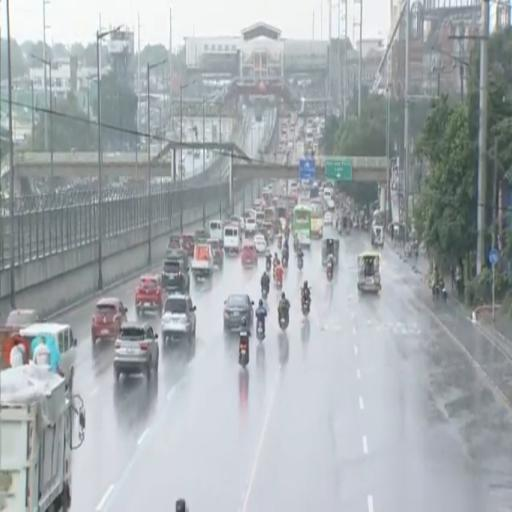bus: (293, 204, 311, 247), (310, 199, 323, 238)
car: (114, 323, 159, 379), (162, 295, 196, 344), (92, 298, 127, 344), (135, 275, 164, 315), (162, 256, 190, 293), (224, 295, 253, 330), (6, 310, 40, 327), (208, 238, 223, 268), (241, 239, 257, 266), (182, 233, 194, 258), (254, 233, 267, 254), (167, 234, 181, 250), (230, 216, 244, 230), (245, 218, 257, 234), (324, 213, 333, 226)
motorcycle: (239, 332, 249, 367), (432, 282, 447, 302), (279, 313, 288, 331), (302, 298, 310, 316), (257, 322, 264, 341), (327, 264, 333, 281), (293, 237, 299, 252), (282, 254, 288, 268), (275, 279, 282, 290), (298, 256, 303, 269), (262, 288, 267, 300), (266, 259, 271, 271), (278, 234, 282, 249)
truck: (0, 363, 85, 511), (192, 242, 214, 281)
